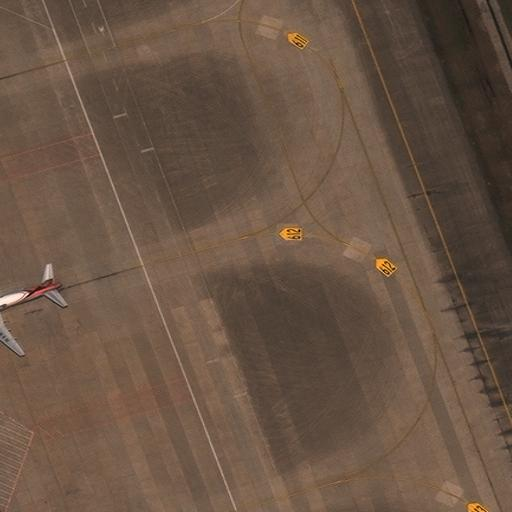Large Civil Transport: (0, 258, 63, 357)
